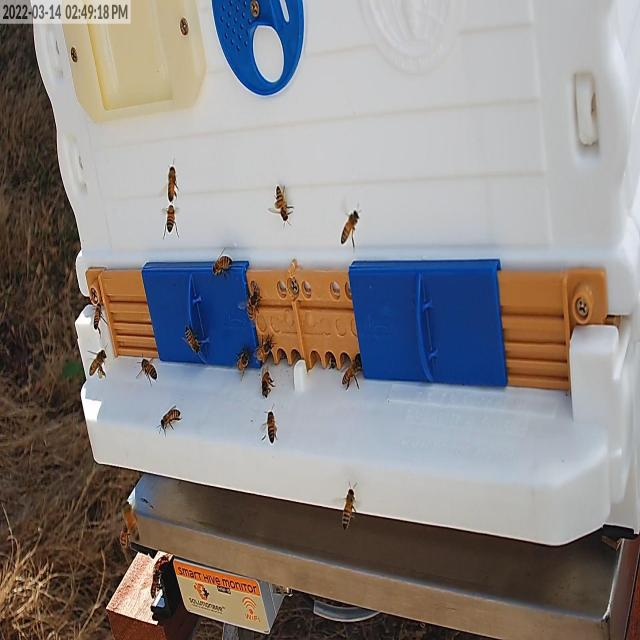honeybee: (258, 189, 302, 242), (341, 342, 370, 405), (82, 349, 118, 396), (161, 401, 195, 447), (272, 173, 295, 239), (136, 336, 160, 396), (337, 203, 364, 254), (199, 251, 235, 288), (284, 261, 307, 318), (266, 396, 288, 452), (185, 319, 212, 364), (338, 472, 357, 528), (84, 284, 106, 326), (230, 349, 252, 385), (257, 372, 282, 402), (122, 505, 142, 537), (166, 190, 180, 233), (254, 338, 274, 362), (249, 286, 260, 328), (161, 168, 180, 189)
